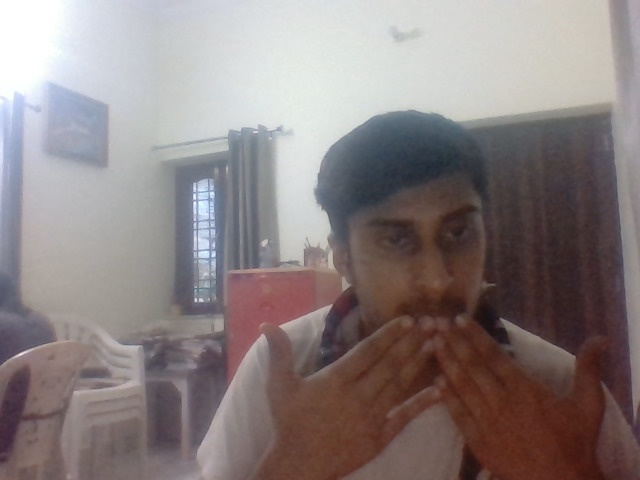ThankYou: (260, 313, 618, 469)
